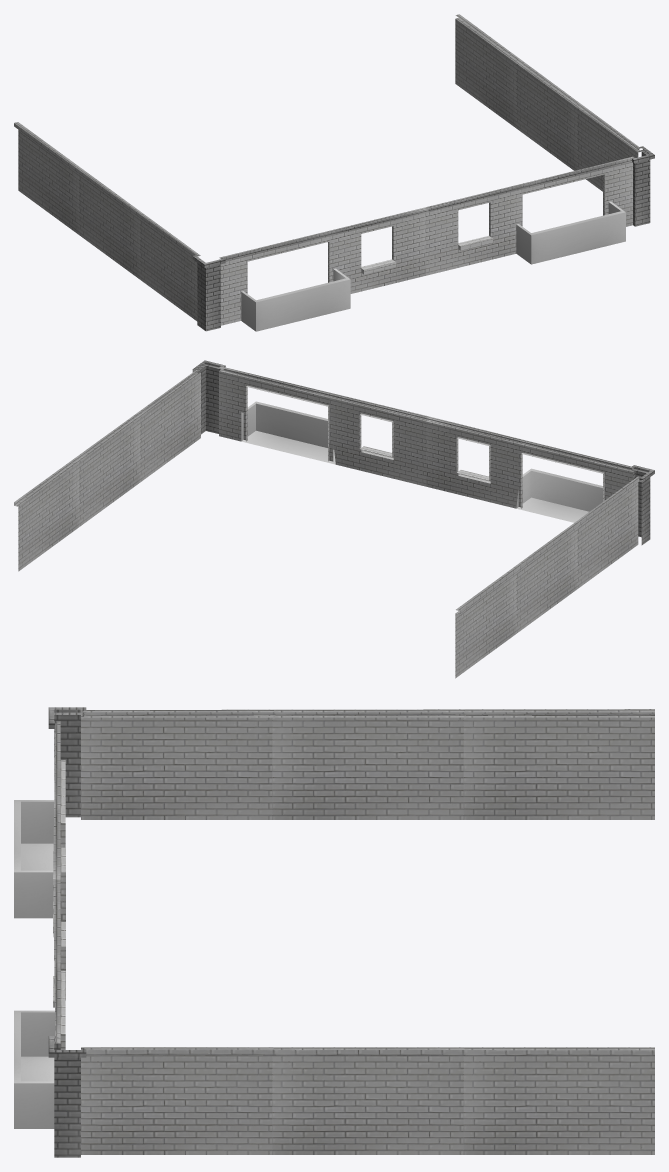
The model's file is Predio25m_TileAndar.FBX.
3 views of the same model, one above another, from view 1: azimuth 30°, elevation 25°; view 2: azimuth 150°, elevation 25°; view 3: azimuth 270°, elevation 25° (orthographic). The views are drawn at different scales.
Parts seen in each view (by area): view 1: Predio25m_TileAndar; view 2: Predio25m_TileAndar; view 3: Predio25m_TileAndar.
Boxes of the visible parts, bbox=[...] form: Predio25m_TileAndar: bbox=[14, 14, 654, 331]; Predio25m_TileAndar: bbox=[14, 360, 654, 678]; Predio25m_TileAndar: bbox=[14, 707, 654, 1157].
Bounding box in the file's own units: 2060 × 300 × 1618.
1 material, 1 textured.
